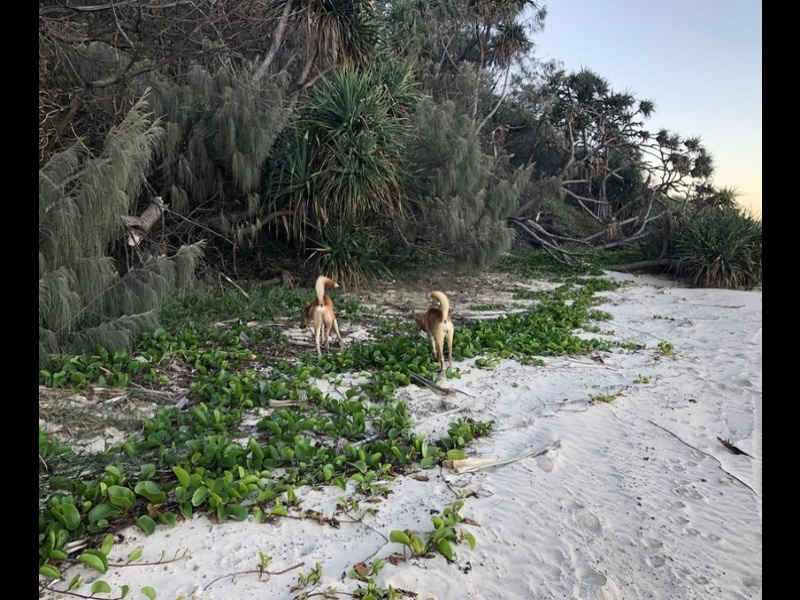dog: (414, 291, 459, 369), (308, 275, 345, 351)
